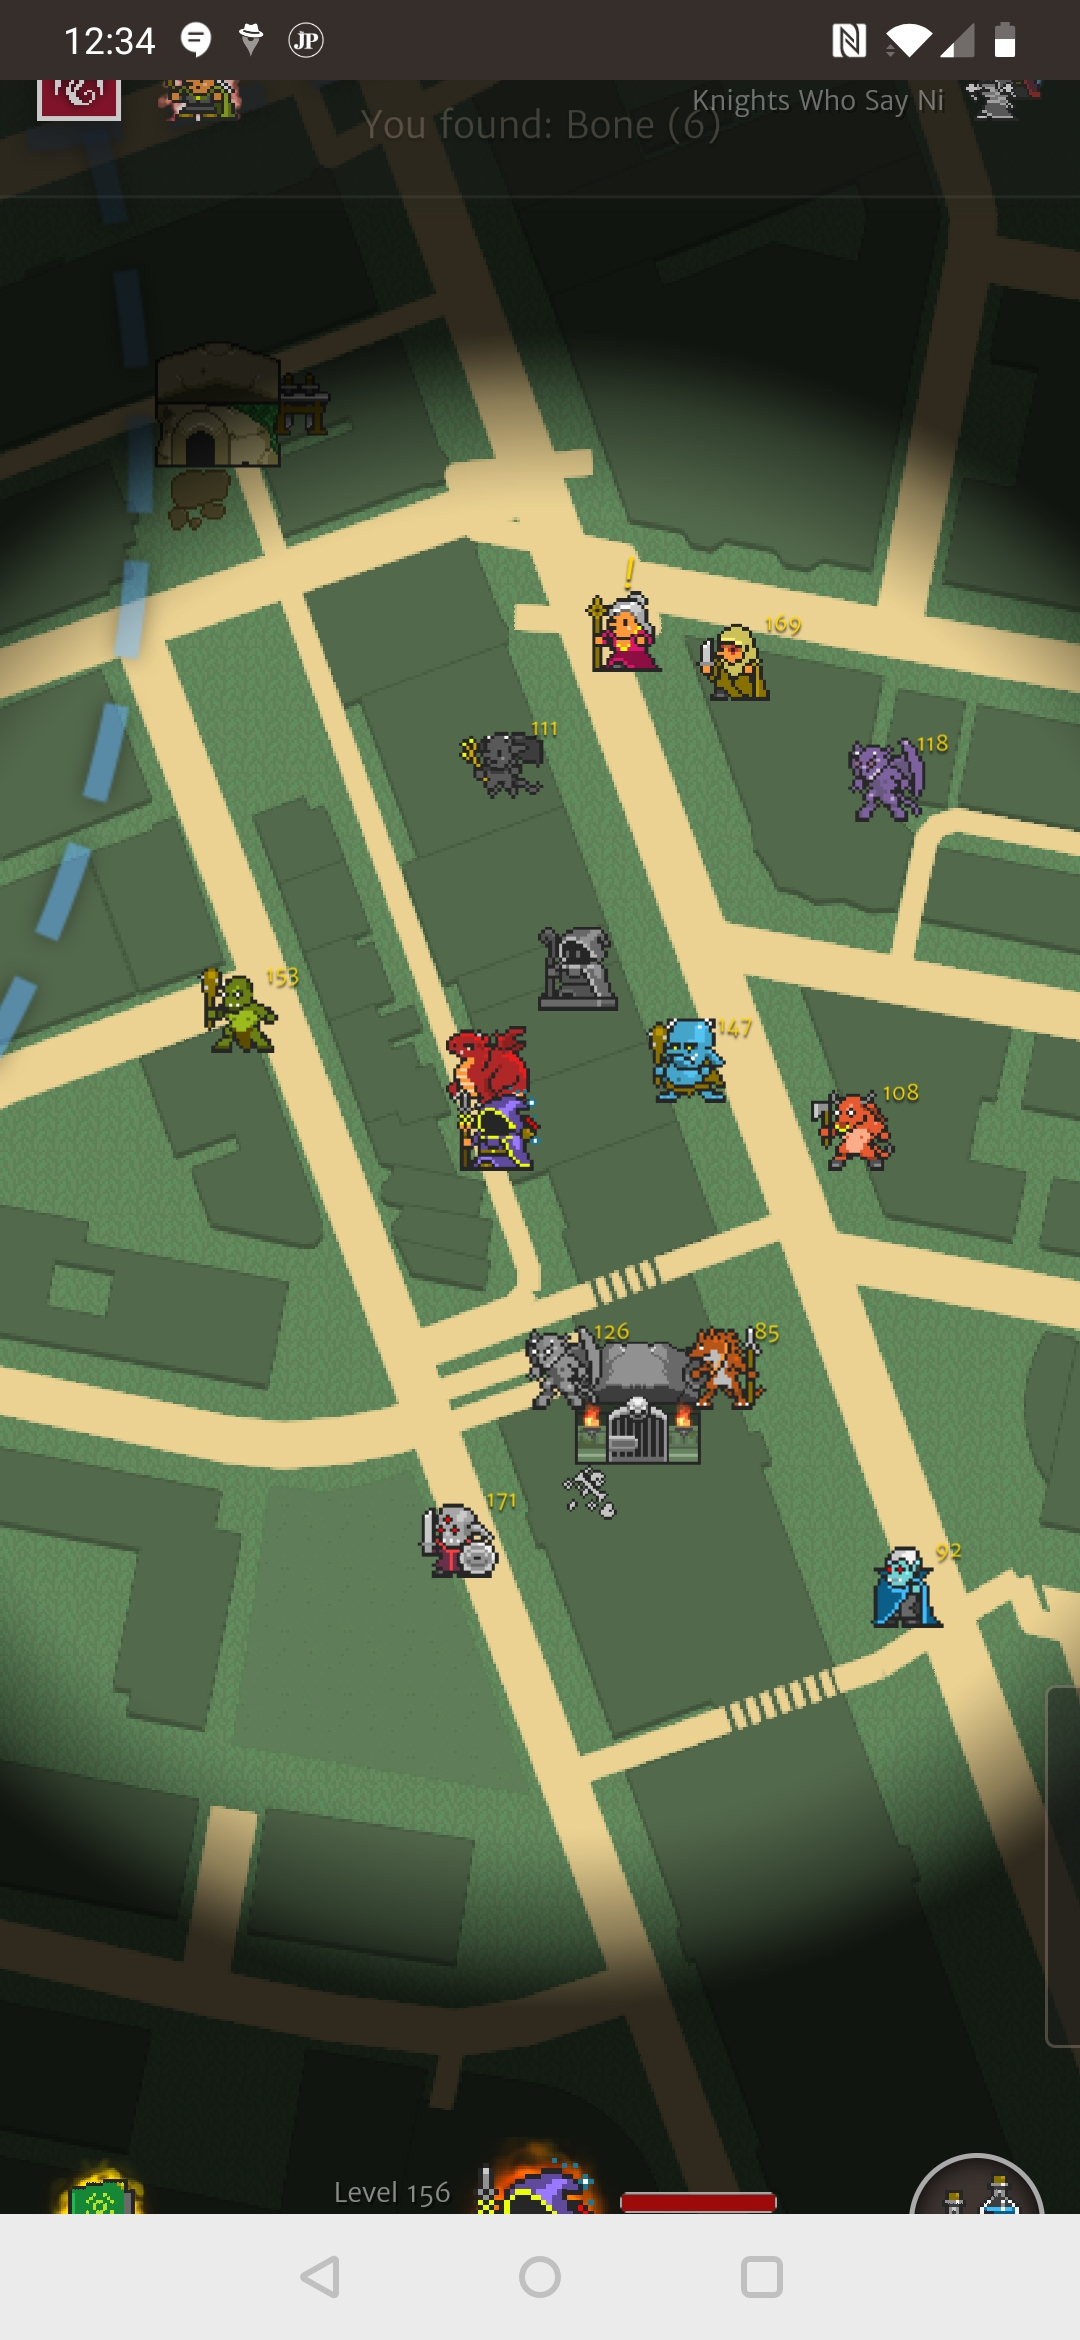monster: (623, 1009, 767, 1109), (838, 725, 962, 835), (821, 1073, 931, 1184), (203, 955, 315, 1063), (405, 1486, 521, 1591), (692, 604, 803, 712), (856, 1540, 969, 1640), (462, 704, 569, 807), (518, 1320, 633, 1409), (690, 1314, 790, 1412)
player: (444, 1094, 541, 1184)
